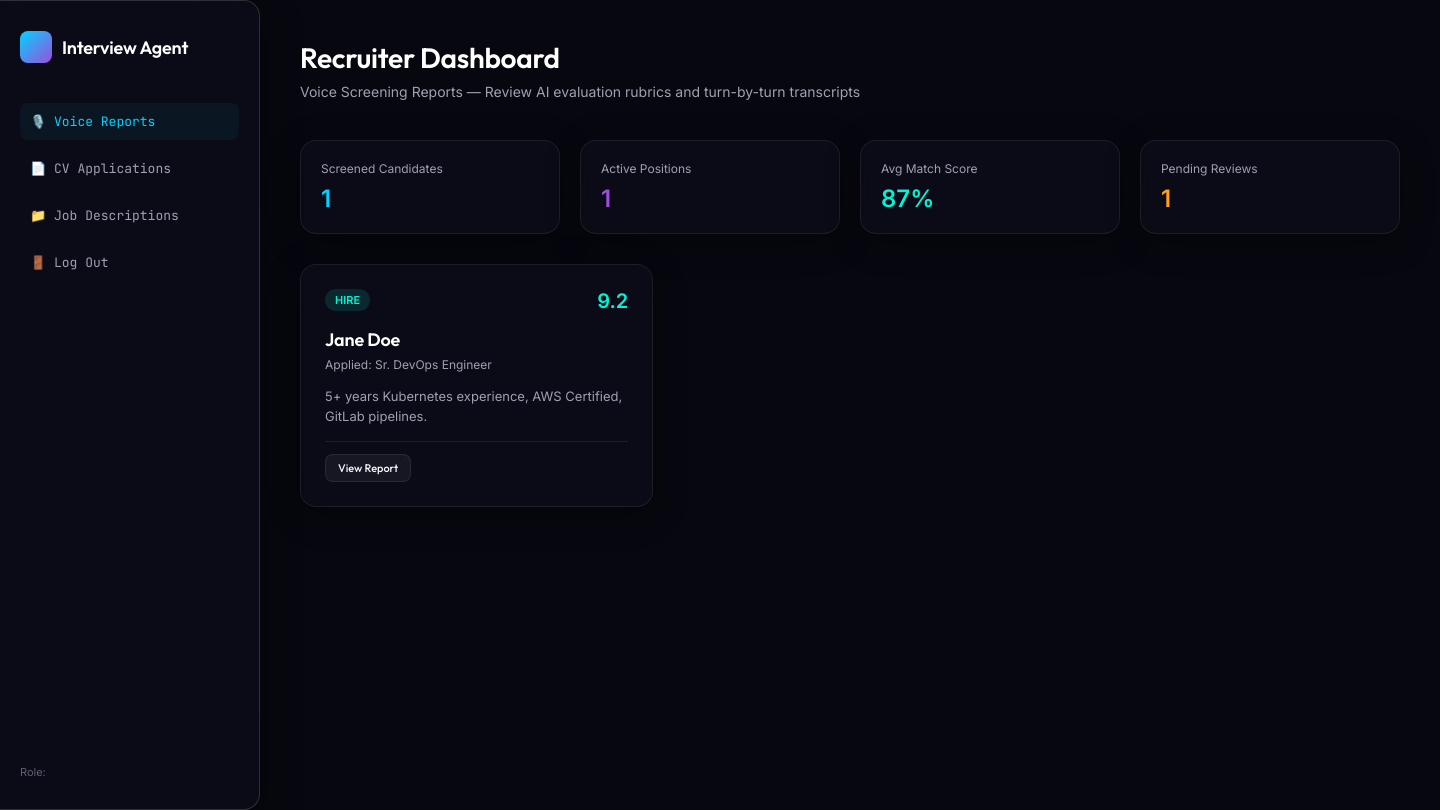
Test: Recruiter Dashboard Component Tests › supports pagination across voice reports, cv applications, and job descriptions
Check: the element with test id "reports-grid" is shown, box [300,264,653,507]
// Switch to CV Applications subtab
Click the text "📄 CV Applications" at [100, 168], box [30,160,171,177]
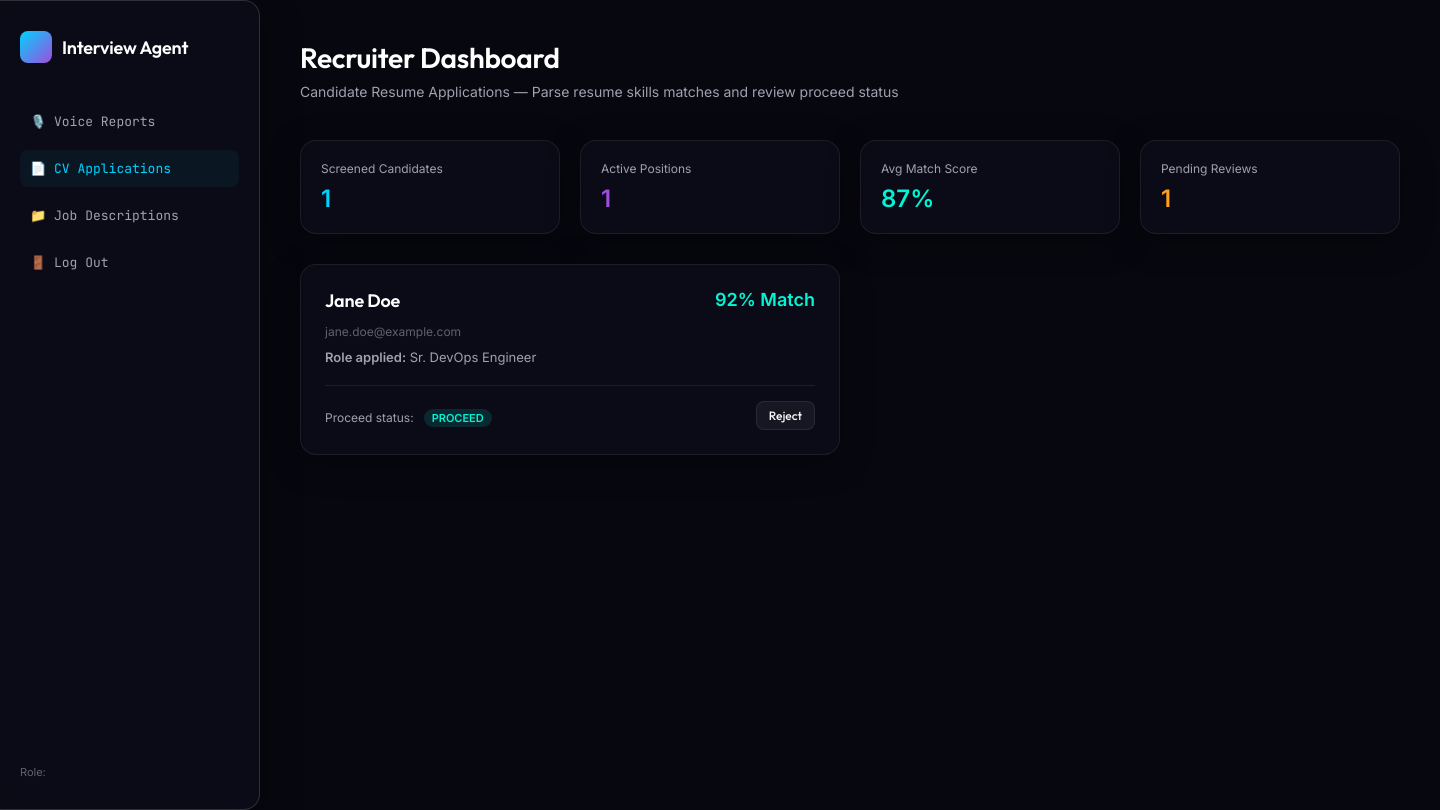
Check: the element with test id "resumes-grid" is shown, box [300,264,840,455]
// Switch to Job Descriptions subtab
Click the text "📁 Job Descriptions" at [104, 216], box [30,207,179,224]
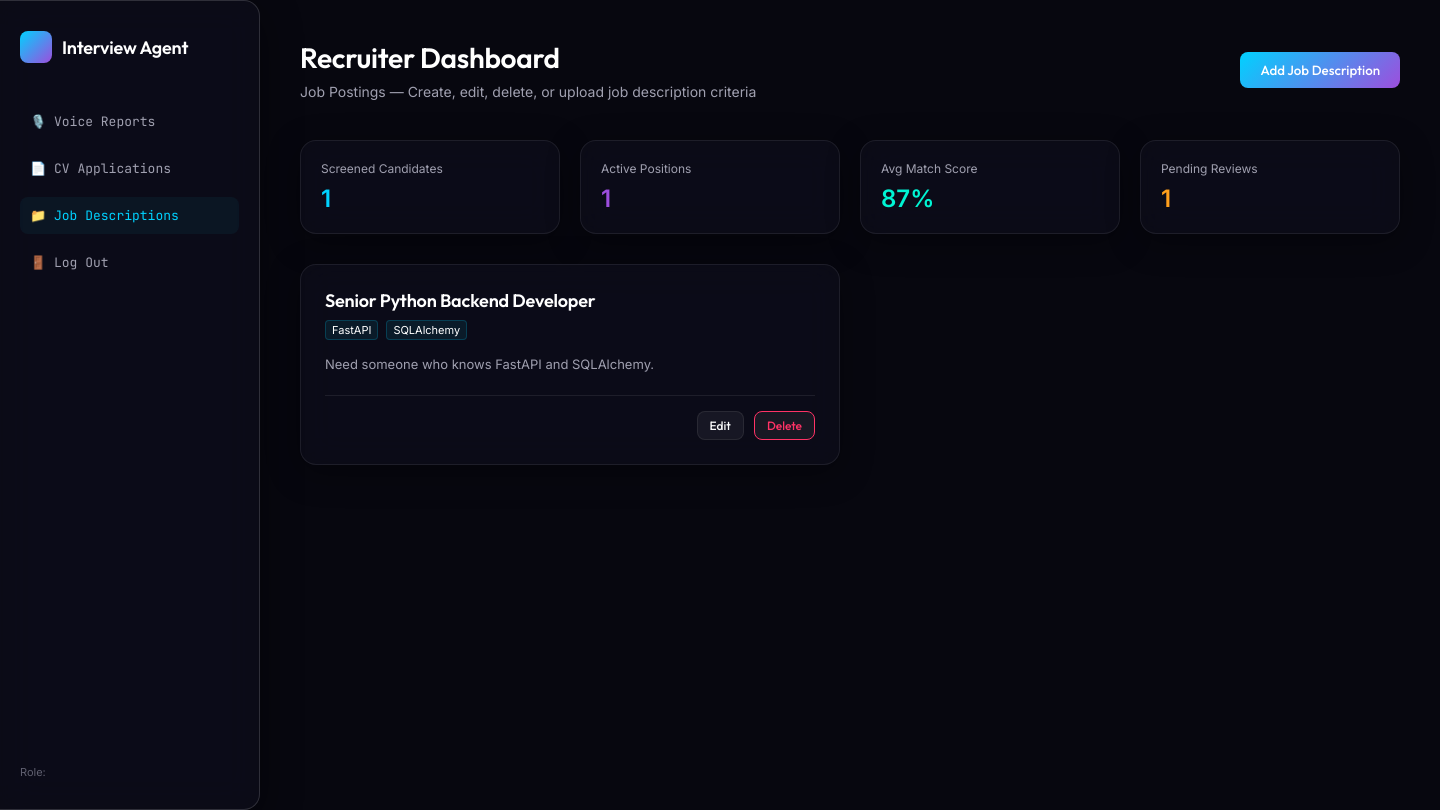
Check: the element with test id "jobs-grid" is shown, box [300,264,840,464]
